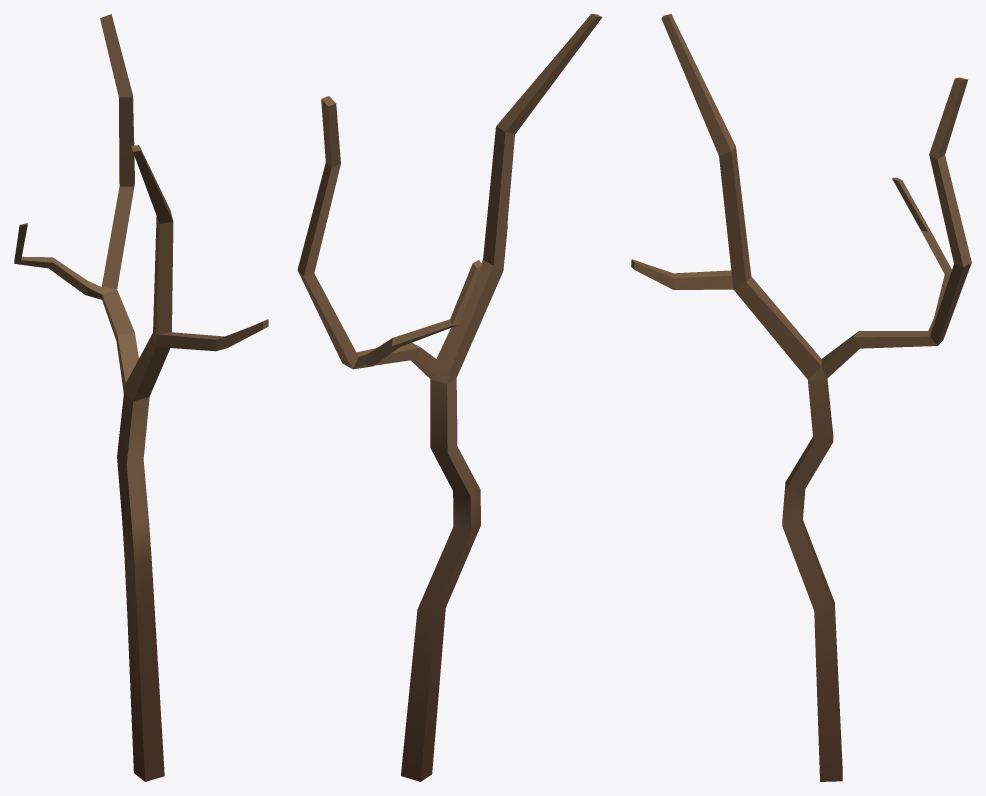
File: Tree2_Winter.FBX
3 views of the same model, side by side, from view 1: azimuth 30°, elevation 25°; view 2: azimuth 150°, elevation 25°; view 3: azimuth 270°, elevation 25° (orthographic).
Parts seen in each view (by area): view 1: Tree2_Winter; view 2: Tree2_Winter; view 3: Tree2_Winter.
Boxes of the visible parts, x1,y1,x2,y2 form: Tree2_Winter: (14,14,268,781); Tree2_Winter: (297,14,602,781); Tree2_Winter: (631,14,971,781).
Size of the model in its own units: 154 by 696 by 300.
